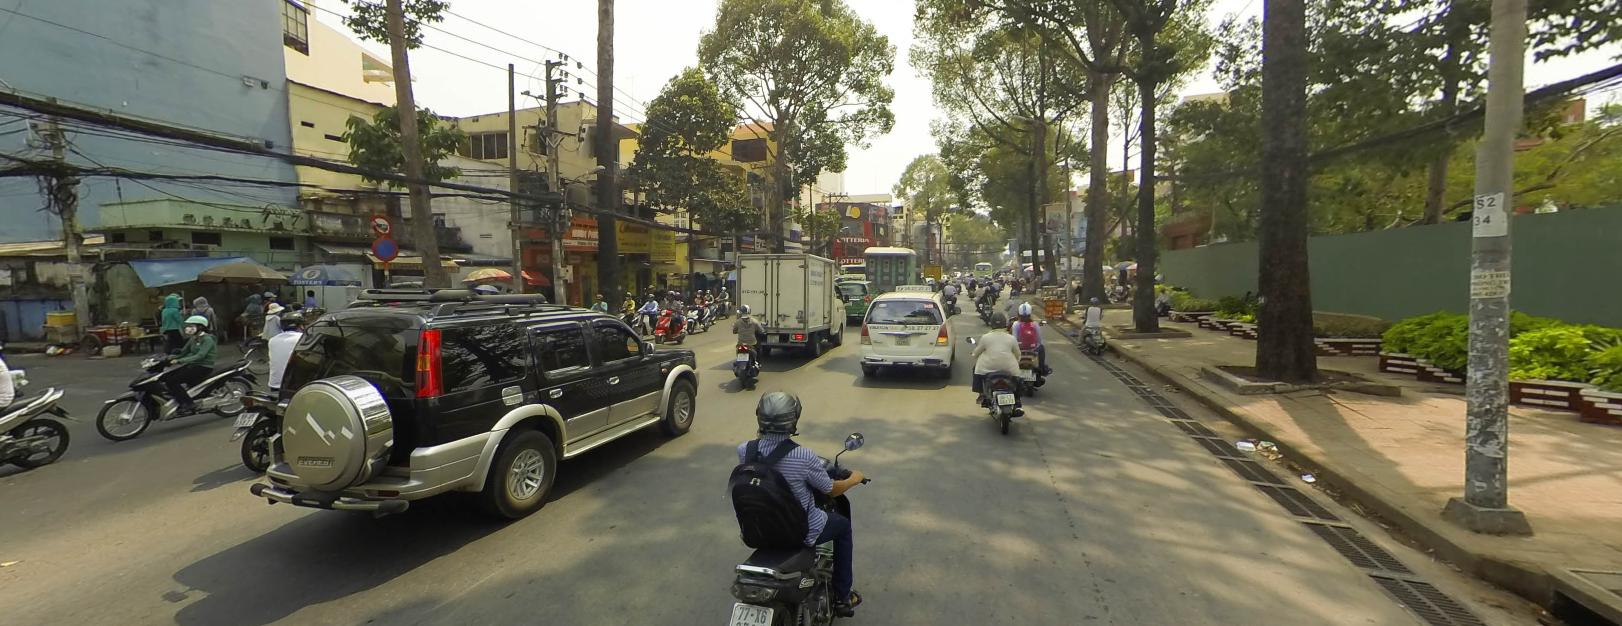Cam con lai: (371, 214, 392, 234)
Cam dung va do: (371, 234, 399, 260)
